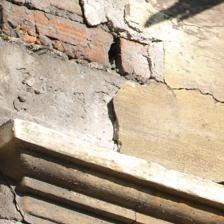Crack: (5, 32, 121, 80), (82, 3, 154, 78), (101, 83, 154, 155), (149, 73, 223, 106)
